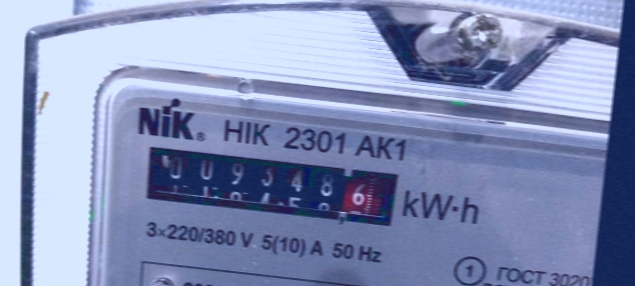0: (167, 150, 183, 178), (198, 154, 215, 178)
3: (258, 160, 275, 187)
4: (288, 163, 305, 191)
6: (348, 177, 368, 205)
8: (317, 167, 335, 197)
9: (227, 157, 245, 185)
screen: (133, 135, 408, 234)
